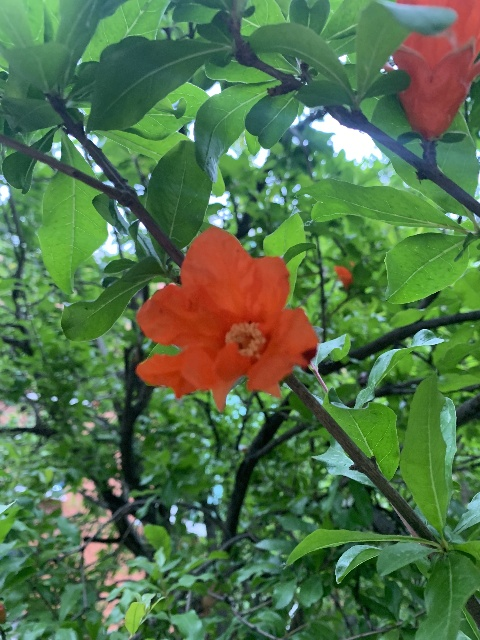flower: (134, 227, 319, 412), (383, 0, 480, 141)
